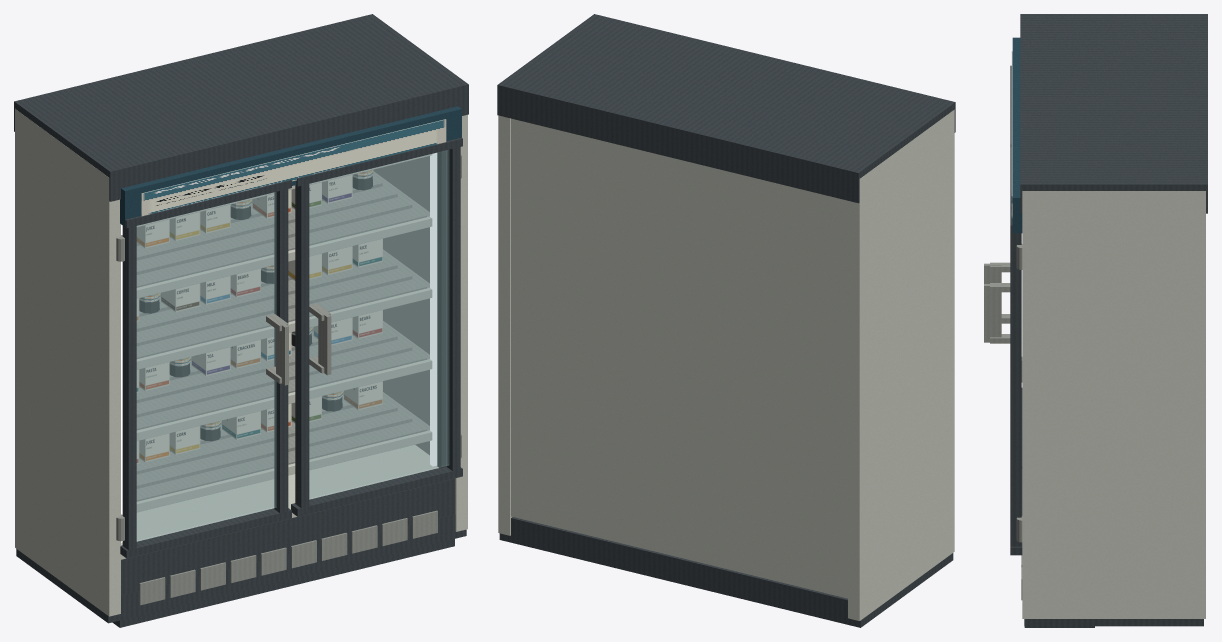
Rendered from PZ_Market_Refrigerated_Display_2m.glb.
The picture shows the model from 3 angles, left to right: view 1: azimuth 30°, elevation 25°; view 2: azimuth 150°, elevation 25°; view 3: azimuth 270°, elevation 25°; orthographic projection. The views are drawn at different scales.
Parts seen in each view (by area): view 1: Cabinet_LeftShell, DOOR_L_GlassPane, DOOR_R_GlassPane, Cabinet_Canopy, Compressor_TopCover, Cabinet_RightShell, Cabinet_ColdInteriorFloor, Fridge_Shelf_4_Lattice, Fridge_Shelf_1_Lattice, Fridge_Shelf_3_Lattice, Fridge_HeadBoard_Text, Fridge_Shelf_2_Lattice (+54 smaller); view 2: Cabinet_InsulatedBack, Cabinet_LeftShell, Cabinet_Canopy, Cabinet_FloorPan, Cabinet_RightShell; view 3: Cabinet_RightShell, Cabinet_Canopy, DOOR_R_Hinge_VerticalFrame, Fridge_HeadBoard, Cabinet_FloorPan, DOOR_R_HandleVert, Fridge_HeadBoard_Text.
Part boxes in pixels (x1,y1,x2,y2): Cabinet_LeftShell: [15, 109, 120, 616]; DOOR_L_GlassPane: [137, 192, 276, 541]; DOOR_R_GlassPane: [309, 150, 449, 498]; Cabinet_Canopy: [14, 14, 468, 201]; Compressor_TopCover: [112, 478, 454, 627]; Cabinet_RightShell: [373, 114, 467, 531]; Cabinet_ColdInteriorFloor: [121, 445, 438, 559]; Fridge_Shelf_4_Lattice: [136, 171, 429, 285]; Fridge_Shelf_1_Lattice: [136, 392, 429, 509]; Fridge_Shelf_3_Lattice: [136, 249, 429, 364]; Fridge_HeadBoard_Text: [141, 119, 446, 216]; Fridge_Shelf_2_Lattice: [136, 321, 429, 429]; Cabinet_InsulatedBack: [511, 118, 847, 598]; Cabinet_LeftShell: [848, 109, 954, 620]; Cabinet_Canopy: [497, 14, 955, 203]; Cabinet_FloorPan: [499, 517, 953, 627]; Cabinet_RightShell: [498, 115, 511, 535]; Cabinet_RightShell: [1022, 191, 1205, 618]; Cabinet_Canopy: [1020, 14, 1207, 213]; DOOR_R_Hinge_VerticalFrame: [1010, 233, 1021, 546]; Fridge_HeadBoard: [1012, 37, 1022, 232]; Cabinet_FloorPan: [1024, 619, 1203, 626]; DOOR_R_HandleVert: [984, 284, 1001, 342]; Fridge_HeadBoard_Text: [1011, 51, 1012, 218].
Bounding box in the file's own units: 2 × 2.46 × 1.11.
Materials: 8 (8 with a texture image).
